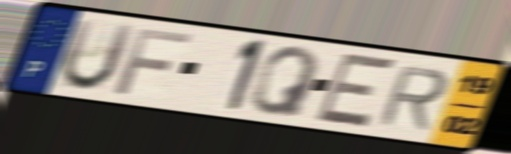1: (223, 37, 272, 114)
E: (311, 50, 401, 130)
F: (111, 26, 196, 97)
Q: (247, 45, 323, 120)
R: (374, 64, 452, 133)
U: (58, 16, 138, 93)
